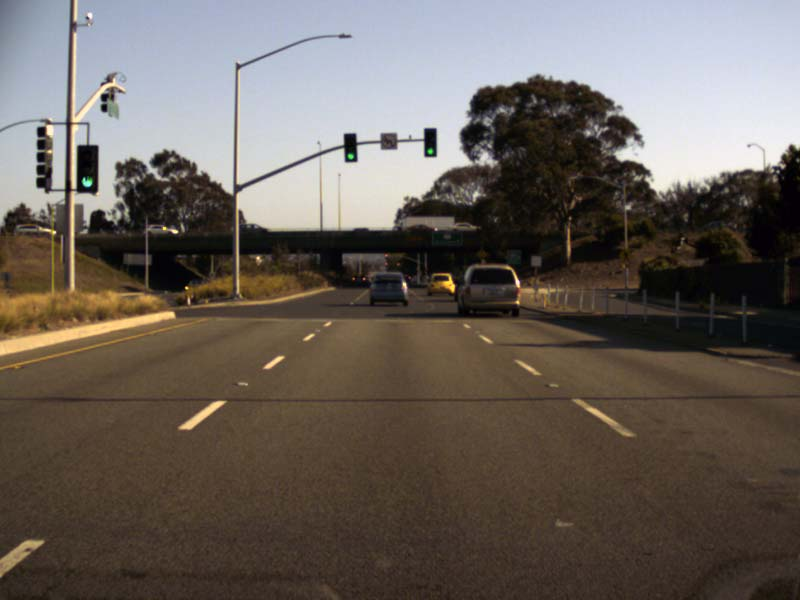Green: (76, 145, 97, 191), (344, 133, 357, 161), (423, 128, 436, 156)
